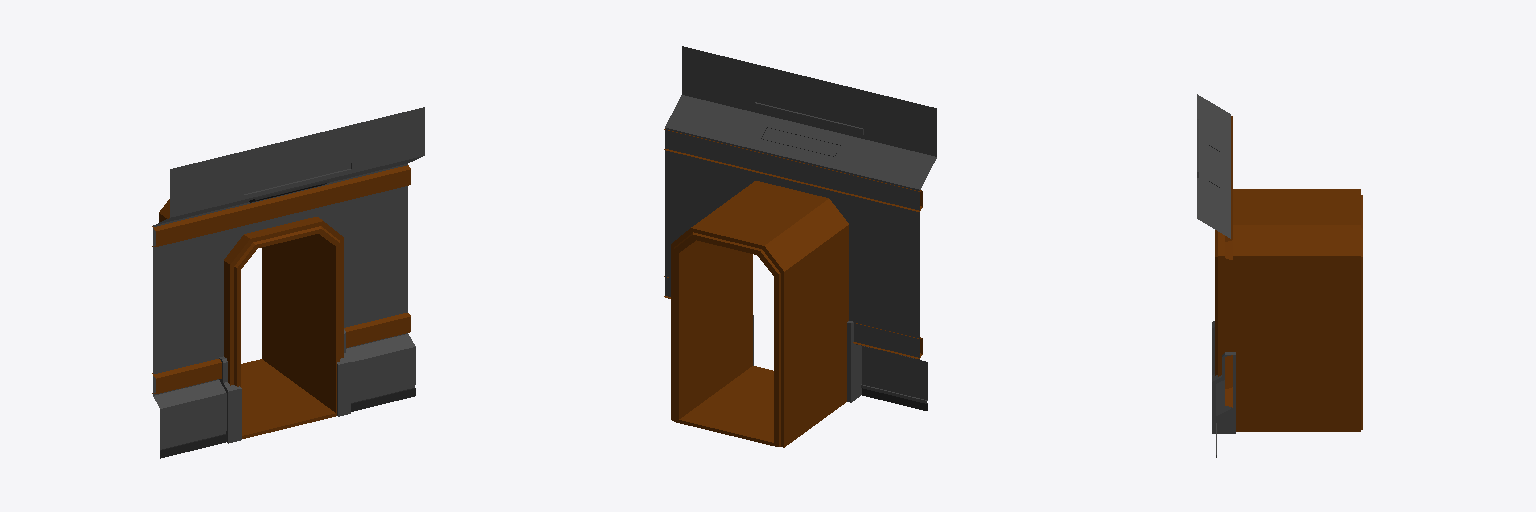
The model's file is DoorSingleLong_Wall_SideA.obj.
The picture shows the model from 3 angles: view 1: azimuth 30°, elevation 25°; view 2: azimuth 150°, elevation 25°; view 3: azimuth 270°, elevation 25°; orthographic projection.
Parts seen in each view (by area): view 1: DoorSingleLong_Wall_SideA_Plane.313; view 2: DoorSingleLong_Wall_SideA_Plane.313; view 3: DoorSingleLong_Wall_SideA_Plane.313.
Boxes of the visible parts, box(x1,y1,x2,y2) form: DoorSingleLong_Wall_SideA_Plane.313: box(152, 107, 424, 458); DoorSingleLong_Wall_SideA_Plane.313: box(664, 46, 936, 447); DoorSingleLong_Wall_SideA_Plane.313: box(1197, 94, 1362, 457).
Bounding box in the file's own units: 4 × 4.44 × 2.25.